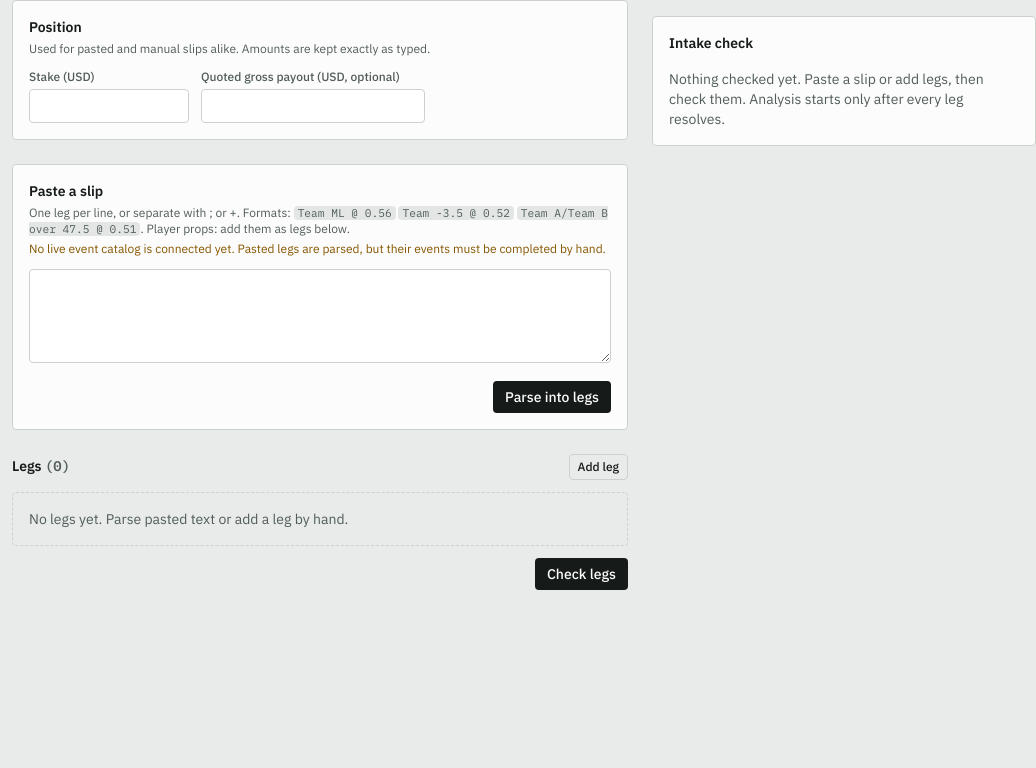
Test case: malformed input reported by the API lists each field
The image size is (1036, 768).
Type "Chiefs ML @ 0.56" into the text box named "Slip text" at (320, 316), box [29,269,611,363]
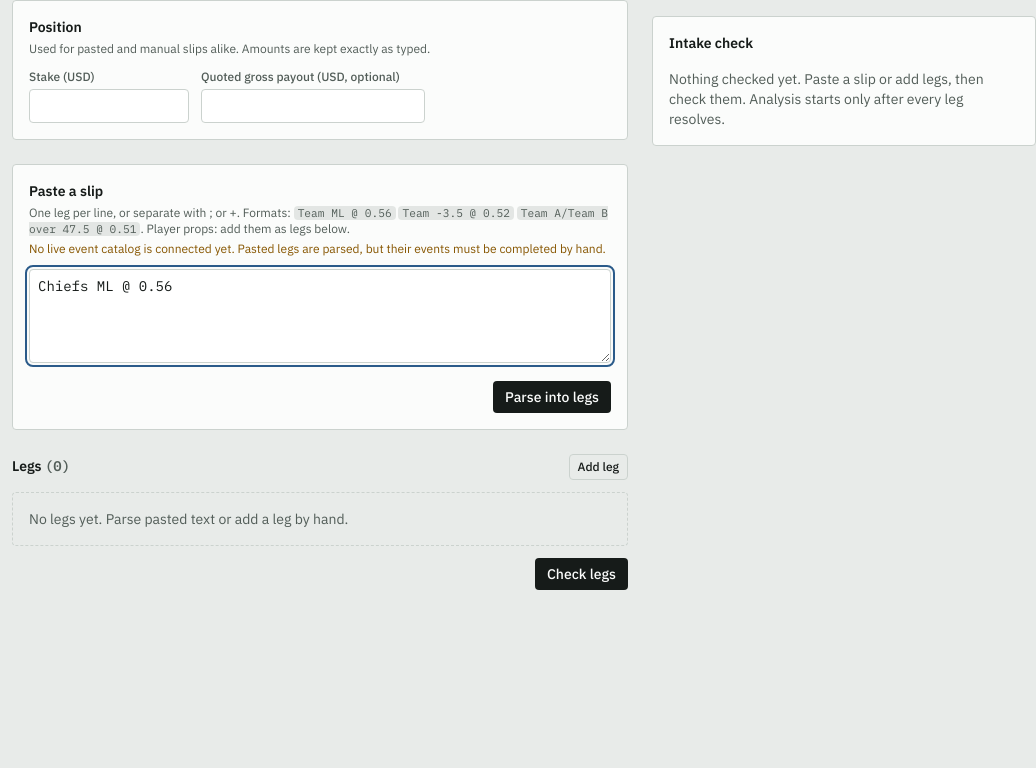
Type "25" into the field labelled "Stake (USD)" at (109, 106), box [29,89,189,123]
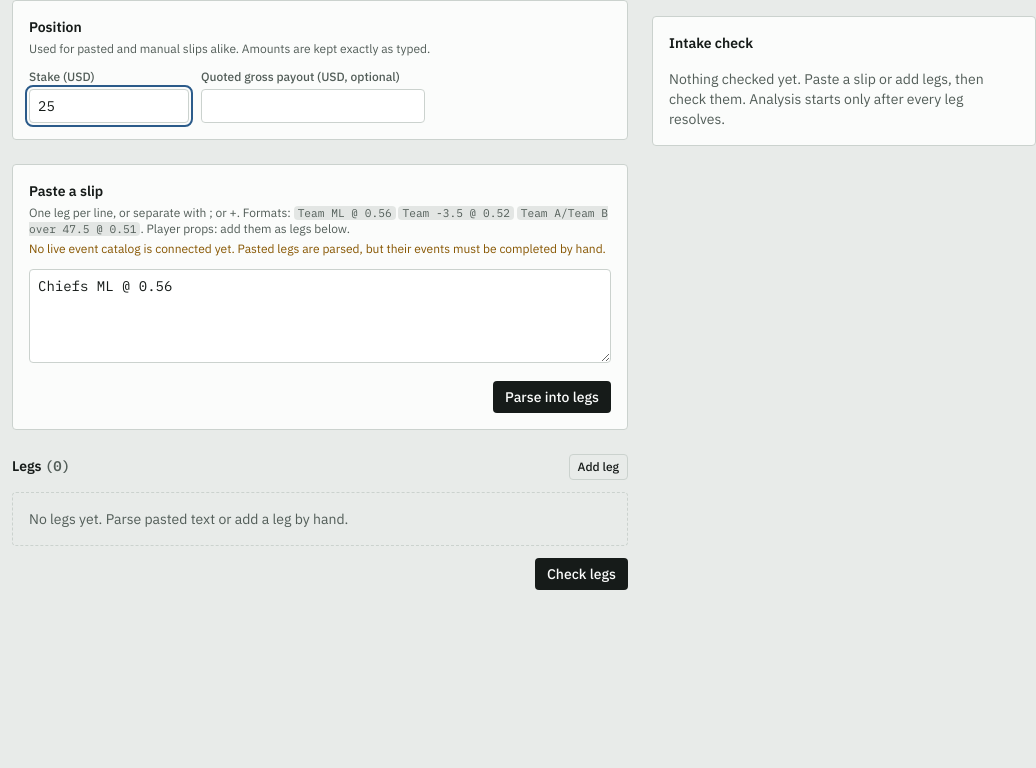
Click the button "Parse into legs" at (552, 397), box [493,381,611,413]
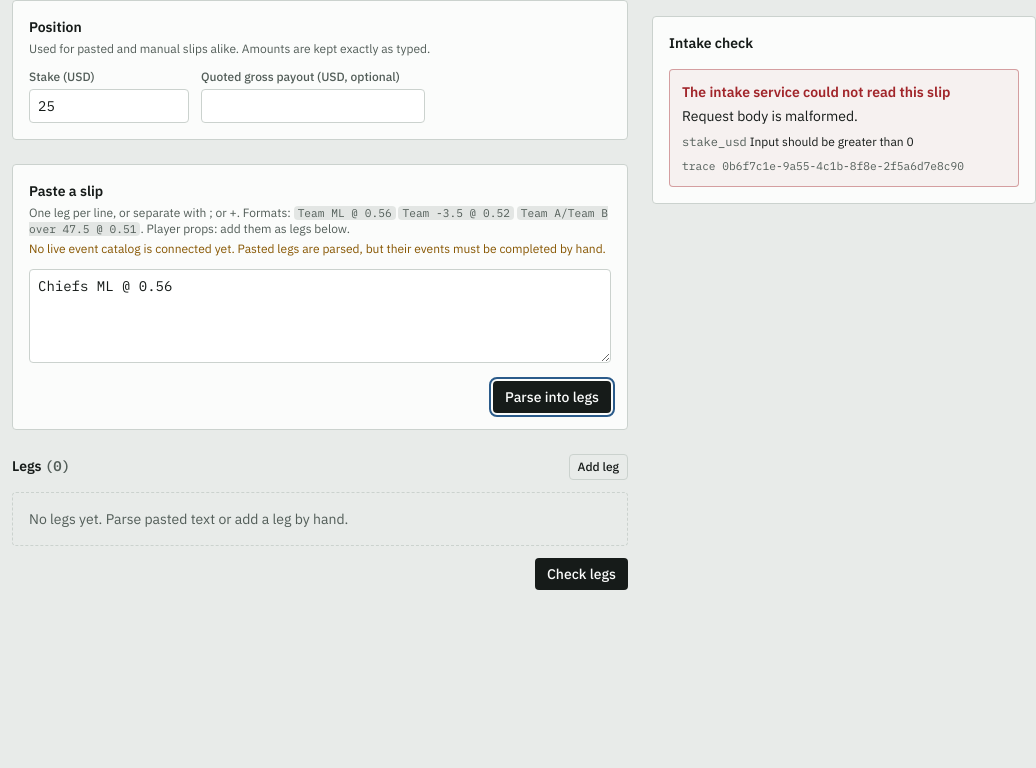
Expected: the message shows "could not read this slip", [682,83,950,101]
Expected: the message shows "stake_usd Input should be greater than 0", [669,69,1019,187]
